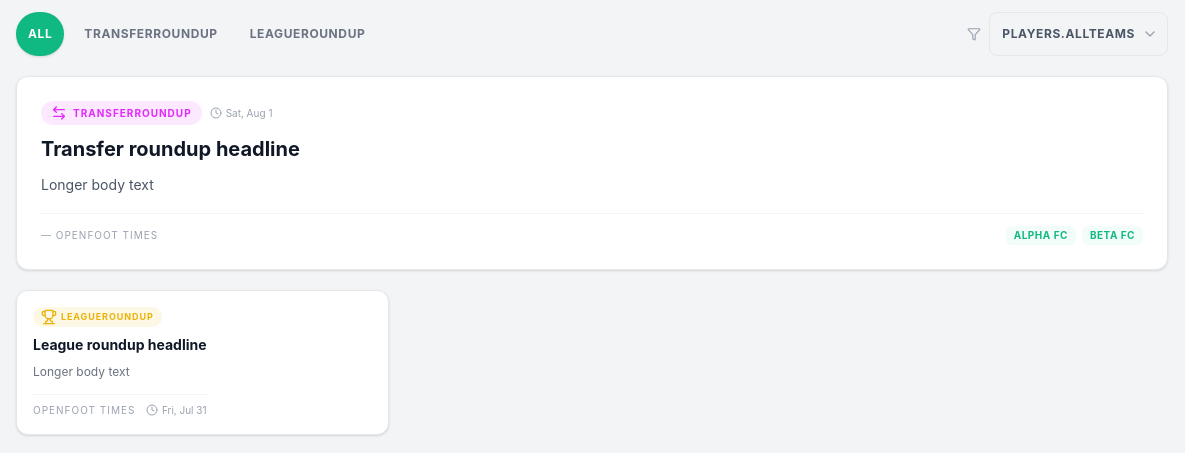
Test: NewsTab › filters dedicated transfer roundup articles by category
Click the button "TransferRoundup". click: [151, 34]
box: [72,12,230,56]
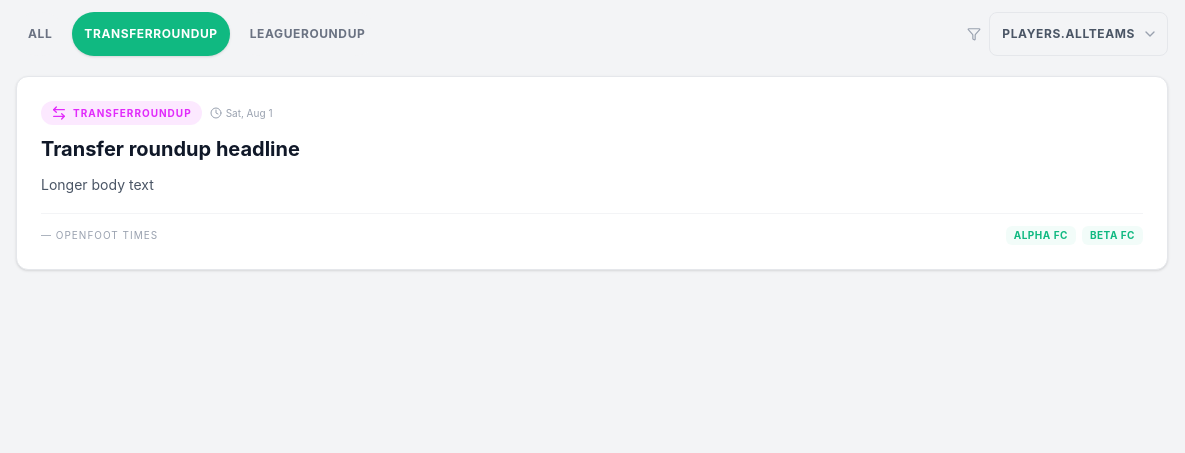
Check: the button "Transfer roundup headline" is shown, box [16,76,1168,270]
Check: the button "League roundup headline" is gone
